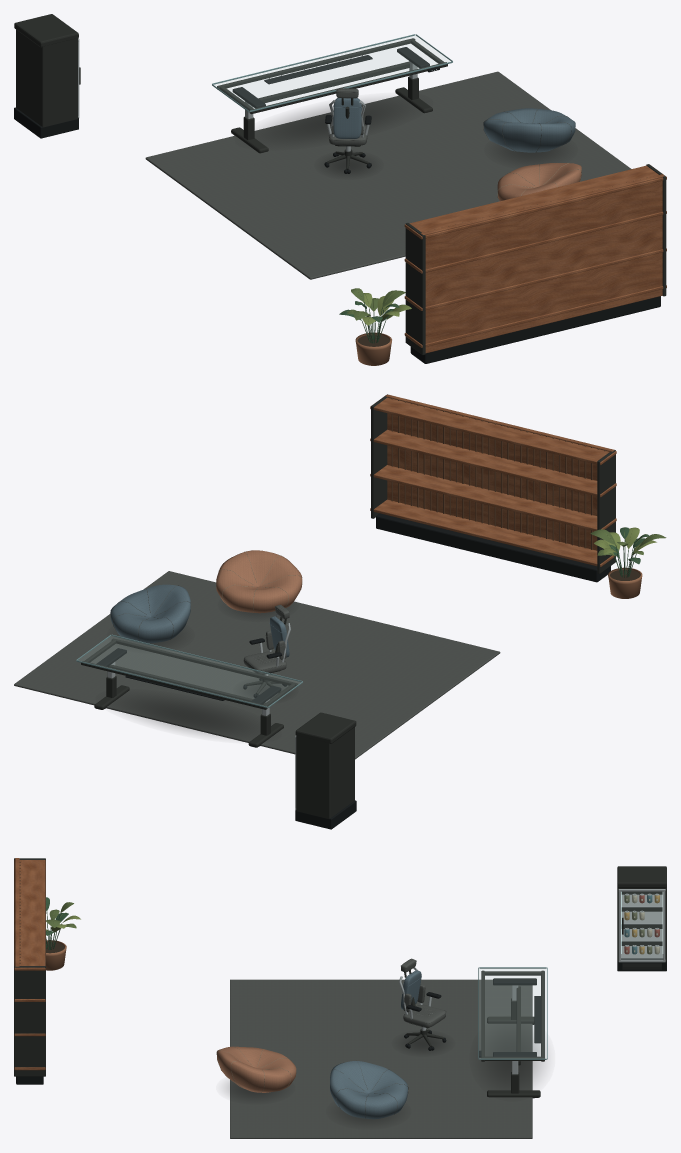
The model's file is gaming.glb.
3 views of the same model, one above another, from view 1: azimuth 30°, elevation 25°; view 2: azimuth 150°, elevation 25°; view 3: azimuth 270°, elevation 25° (orthographic). The views are drawn at different scales.
Visible parts, largest first — view 1: gaming | M08 | Graphite twill, gaming | M03 | Oiled American walnut, gaming | M06 | Powder-coated steel, gaming | M07 | Starphire glazing, gaming | M06 | Lacquered graphite, gaming | M08 | Mineral blue canvas, gaming | Soft contact occlusion, gaming | M08 | Burnt sienna canvas, gaming | M07 | Glass cut edge, gaming | Stacked ceramic clay, gaming | Brushed aluminum, gaming | M08 | Leaf 2 (+2 smaller); view 2: gaming | M08 | Graphite twill, gaming | M03 | Oiled American walnut, gaming | M06 | Powder-coated steel, gaming | M07 | Starphire glazing, gaming | M06 | Lacquered graphite, gaming | M08 | Burnt sienna canvas, gaming | Mortise endgrain, gaming | M08 | Mineral blue canvas, gaming | Soft contact occlusion, gaming | M07 | Glass cut edge, gaming | Stacked ceramic clay, gaming | M08 | Leaf 2; view 3: gaming | M08 | Graphite twill, gaming | M07 | Starphire glazing, gaming | M06 | Powder-coated steel, gaming | M08 | Mineral blue canvas, gaming | M03 | Oiled American walnut, gaming | Soft contact occlusion, gaming | Brushed aluminum, gaming | M08 | Burnt sienna canvas, gaming | M06 | Lacquered graphite, gaming | M07 | Glass cut edge.
Boxes of the visible parts, box(x1,y1,x2,y2) form: gaming | M08 | Graphite twill: box(145, 71, 631, 279); gaming | M03 | Oiled American walnut: box(404, 165, 666, 353); gaming | M06 | Powder-coated steel: box(14, 14, 666, 354); gaming | M07 | Starphire glazing: box(214, 34, 450, 111); gaming | M06 | Lacquered graphite: box(14, 47, 660, 363); gaming | M08 | Mineral blue canvas: box(333, 97, 575, 152); gaming | Soft contact occlusion: box(263, 101, 564, 175); gaming | M08 | Burnt sienna canvas: box(497, 163, 581, 201); gaming | M07 | Glass cut edge: box(212, 34, 452, 112); gaming | Stacked ceramic clay: box(355, 332, 391, 365); gaming | Brushed aluminum: box(78, 38, 417, 151); gaming | M08 | Leaf 2: box(342, 289, 411, 325); gaming | M08 | Graphite twill: box(14, 571, 500, 759); gaming | M03 | Oiled American walnut: box(370, 394, 616, 566); gaming | M06 | Powder-coated steel: box(81, 394, 615, 818); gaming | M07 | Starphire glazing: box(79, 636, 300, 706); gaming | M06 | Lacquered graphite: box(96, 513, 610, 829); gaming | M08 | Burnt sienna canvas: box(216, 550, 302, 613); gaming | Mortise endgrain: box(391, 398, 605, 549); gaming | M08 | Mineral blue canvas: box(110, 584, 289, 657); gaming | Soft contact occlusion: box(122, 609, 284, 735); gaming | M07 | Glass cut edge: box(76, 634, 302, 707); gaming | Stacked ceramic clay: box(608, 567, 642, 598); gaming | M08 | Leaf 2: box(594, 527, 661, 561); gaming | M08 | Graphite twill: box(230, 958, 532, 1138); gaming | M07 | Starphire glazing: box(479, 892, 662, 1058); gaming | M06 | Powder-coated steel: box(14, 858, 666, 1097); gaming | M08 | Mineral blue canvas: box(330, 970, 421, 1119); gaming | M03 | Oiled American walnut: box(14, 858, 45, 1070); gaming | Soft contact occlusion: box(227, 1031, 542, 1124); gaming | Brushed aluminum: box(399, 889, 665, 1074); gaming | M08 | Burnt sienna canvas: box(217, 1046, 296, 1092); gaming | M06 | Lacquered graphite: box(16, 911, 666, 1098); gaming | M07 | Glass cut edge: box(478, 967, 547, 1059).
Size of the model in its own units: 6.66 by 2.01 by 9.81.
Materials: 24 (6 with a texture image).
